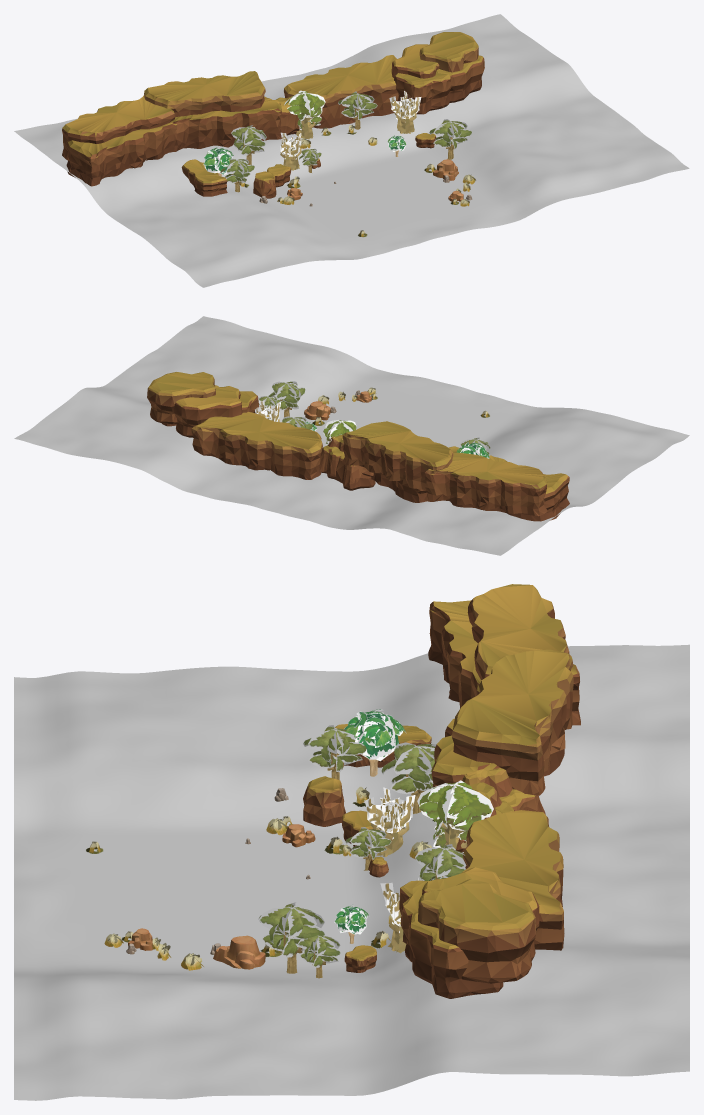
File: savannah_arena.glb
3 views of the same model, one above another, from view 1: azimuth 30°, elevation 25°; view 2: azimuth 150°, elevation 25°; view 3: azimuth 270°, elevation 25° (orthographic). The views are drawn at different scales.
Parts seen in each view (by area): view 1: G_savannah_Ground, P_savannah_00_mesa_wide, P_savannah_03_mesa_a, P_savannah_02_ridge, P_savannah_04_tree_c, P_savannah_13_ridge, P_savannah_36_tree_a, P_savannah_06_tree_a, P_savannah_07_tree_b, P_savannah_05_tree_a, P_savannah_08_tree_d, P_savannah_19_tree_b (+3 smaller); view 2: G_savannah_Ground, P_savannah_00_mesa_wide, P_savannah_02_ridge, P_savannah_03_mesa_a, P_savannah_01_mesa_b, P_savannah_36_tree_a, P_savannah_04_tree_c, P_savannah_31_rock_b; view 3: G_savannah_Ground, P_savannah_00_mesa_wide, P_savannah_03_mesa_a, P_savannah_02_ridge, P_savannah_04_tree_c, P_savannah_36_tree_a, P_savannah_06_tree_a, P_savannah_01_mesa_b, P_savannah_08_tree_d, P_savannah_20_tree_a, P_savannah_19_tree_b, P_savannah_15_butte (+7 smaller).
Part boxes in pixels (x1,y1,x2,y2): G_savannah_Ground: [14, 14, 689, 287]; P_savannah_00_mesa_wide: [62, 71, 281, 186]; P_savannah_03_mesa_a: [391, 32, 484, 114]; P_savannah_02_ridge: [284, 55, 398, 128]; P_savannah_04_tree_c: [284, 90, 325, 139]; P_savannah_13_ridge: [181, 159, 227, 196]; P_savannah_36_tree_a: [429, 119, 472, 159]; P_savannah_06_tree_a: [231, 125, 266, 164]; P_savannah_07_tree_b: [389, 91, 421, 133]; P_savannah_05_tree_a: [338, 91, 377, 129]; P_savannah_08_tree_d: [203, 146, 234, 176]; P_savannah_19_tree_b: [280, 132, 301, 170]; G_savannah_Ground: [14, 316, 689, 555]; P_savannah_00_mesa_wide: [342, 421, 569, 521]; P_savannah_02_ridge: [191, 412, 322, 479]; P_savannah_03_mesa_a: [147, 372, 259, 437]; P_savannah_01_mesa_b: [320, 435, 375, 490]; P_savannah_36_tree_a: [268, 381, 305, 417]; P_savannah_04_tree_c: [323, 420, 356, 445]; P_savannah_31_rock_b: [304, 401, 330, 420]; G_savannah_Ground: [14, 644, 689, 1100]; P_savannah_00_mesa_wide: [428, 584, 580, 795]; P_savannah_03_mesa_a: [399, 867, 539, 998]; P_savannah_02_ridge: [462, 810, 564, 950]; P_savannah_04_tree_c: [417, 780, 493, 849]; P_savannah_36_tree_a: [258, 902, 325, 973]; P_savannah_06_tree_a: [381, 742, 436, 813]; P_savannah_01_mesa_b: [456, 768, 548, 852]; P_savannah_08_tree_d: [344, 709, 406, 776]; P_savannah_20_tree_a: [303, 725, 366, 779]; P_savannah_19_tree_b: [365, 787, 415, 856]; P_savannah_15_butte: [303, 776, 345, 826].
Size of the model in its own units: 92.08 by 13.07 by 62.
